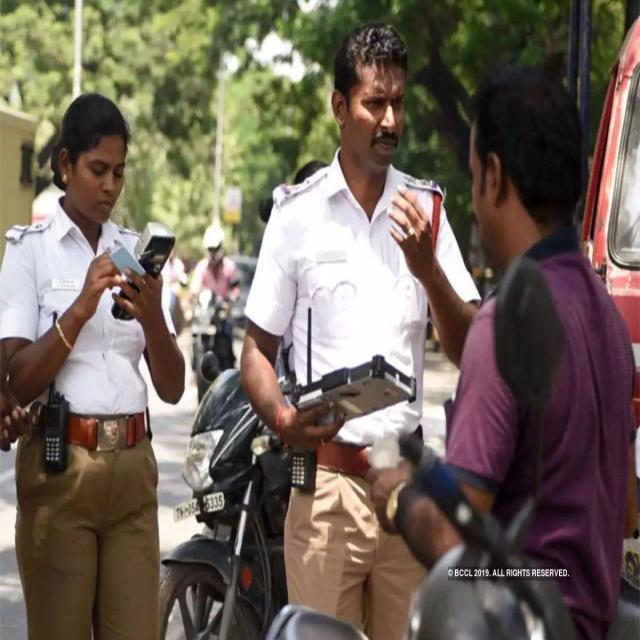Not Wearing Helmet: (425, 99, 632, 308)
